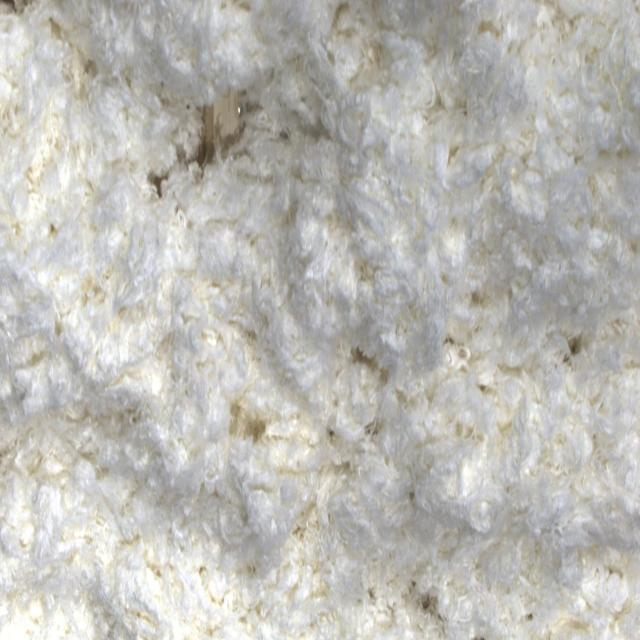dust: (180, 73, 256, 179)
